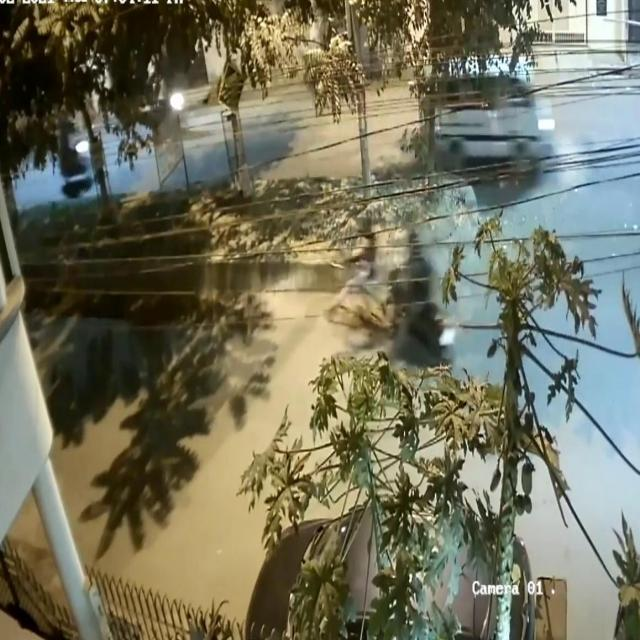accident: (320, 203, 464, 373)
